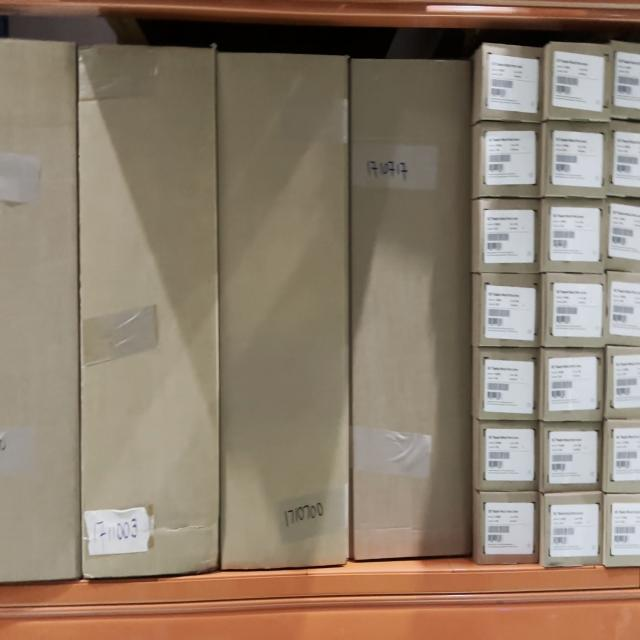box: (82, 50, 216, 572), (224, 56, 349, 571), (352, 58, 472, 554), (550, 127, 607, 196), (547, 277, 603, 347), (545, 352, 601, 422), (552, 50, 611, 115), (485, 200, 538, 270), (485, 124, 538, 191), (544, 429, 600, 492), (550, 207, 606, 269), (482, 425, 536, 487), (488, 51, 538, 116), (486, 281, 538, 343), (485, 354, 536, 417), (548, 503, 600, 562), (485, 498, 535, 558)
